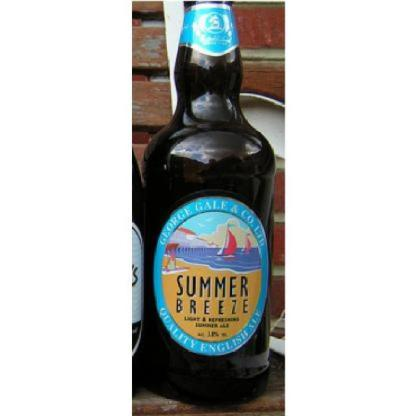Can: (142, 0, 276, 405)
